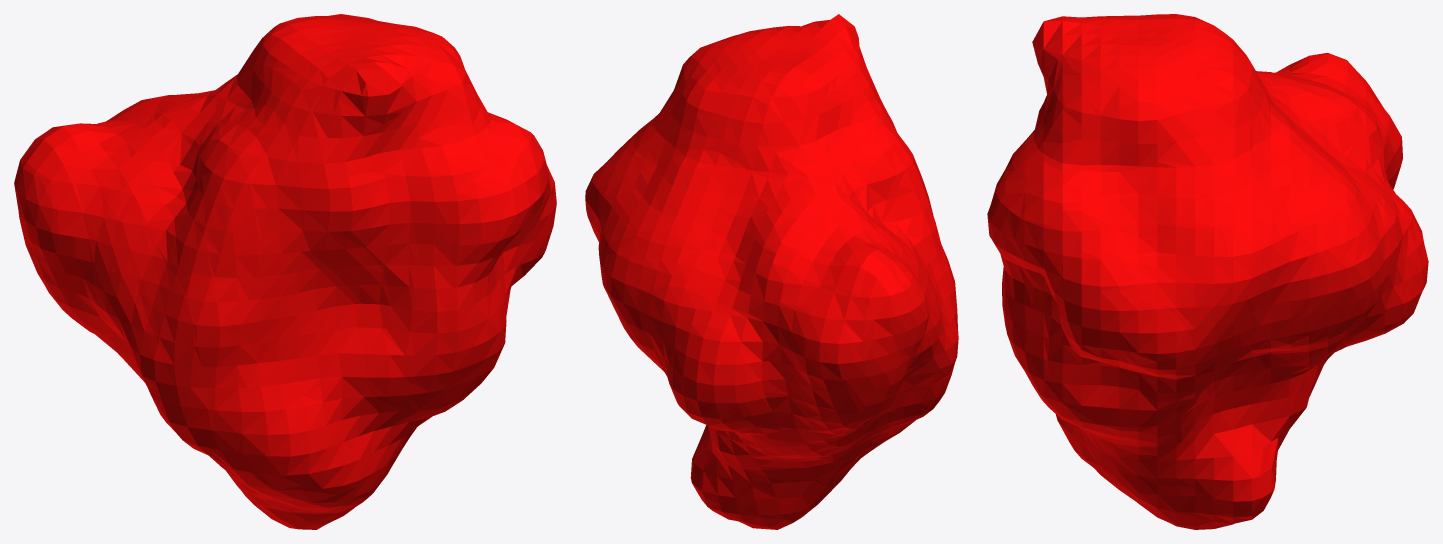
File: yafJ_coarse.dae
The picture shows the model from 3 angles, left to right: view 1: azimuth 30°, elevation 25°; view 2: azimuth 150°, elevation 25°; view 3: azimuth 270°, elevation 25°; orthographic projection. The views are drawn at different scales.
Parts seen in each view (by area): view 1: yafJ; view 2: yafJ; view 3: yafJ.
Part boxes in pixels (x1,y1,x2,y2): yafJ: [14, 14, 556, 529]; yafJ: [585, 14, 958, 529]; yafJ: [987, 14, 1428, 529].
Size of the model in its own units: 51.62 by 59.45 by 46.77.
